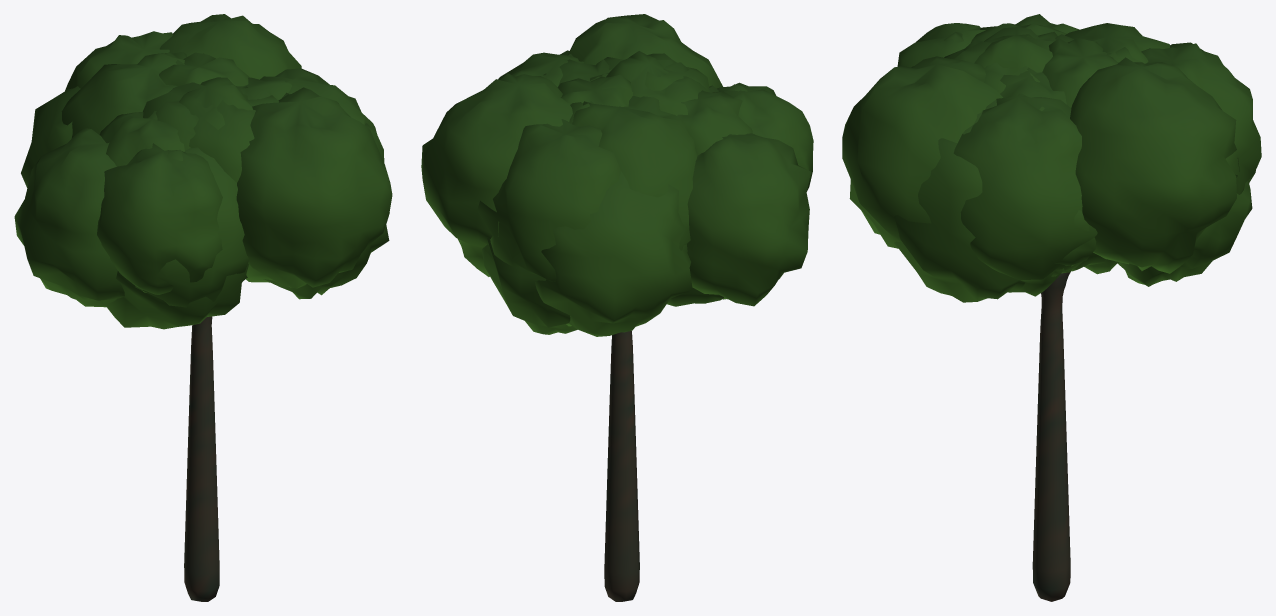
Rendered from SM_Tree_Broadleaf_A.fbx.
3 views of the same model, side by side, from view 1: azimuth 30°, elevation 25°; view 2: azimuth 150°, elevation 25°; view 3: azimuth 270°, elevation 25° (orthographic). The views are drawn at different scales.
Parts seen in each view (by area): view 1: SM_Tree_Broadleaf_A; view 2: SM_Tree_Broadleaf_A; view 3: SM_Tree_Broadleaf_A.
Part boxes in pixels (bbox=[...]): SM_Tree_Broadleaf_A: bbox=[14, 14, 392, 601]; SM_Tree_Broadleaf_A: bbox=[421, 14, 813, 601]; SM_Tree_Broadleaf_A: bbox=[842, 14, 1261, 601].
Size of the model in its own units: 8.41 by 12.73 by 8.54.
